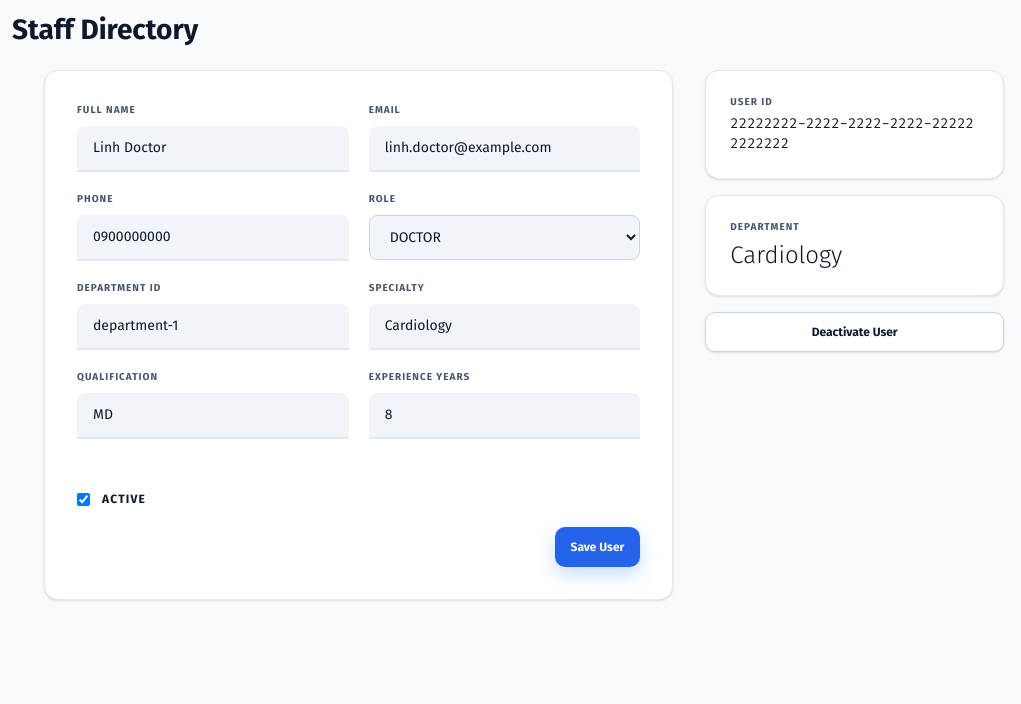
it: AdminUserDetailEditPage › updates the selected user with the backend request shape
Replace the text in the field named "Full Name" with "Updated Doctor" at (213, 149), box [77, 126, 349, 172]
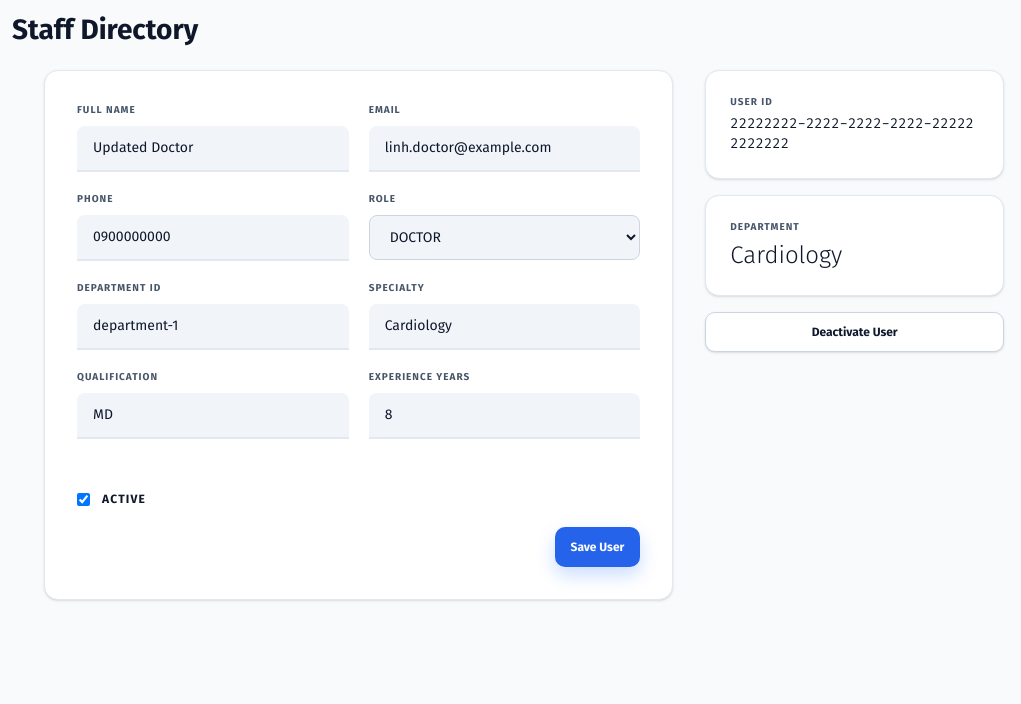
Click the button "Save User" at (597, 547), box [554, 527, 640, 567]
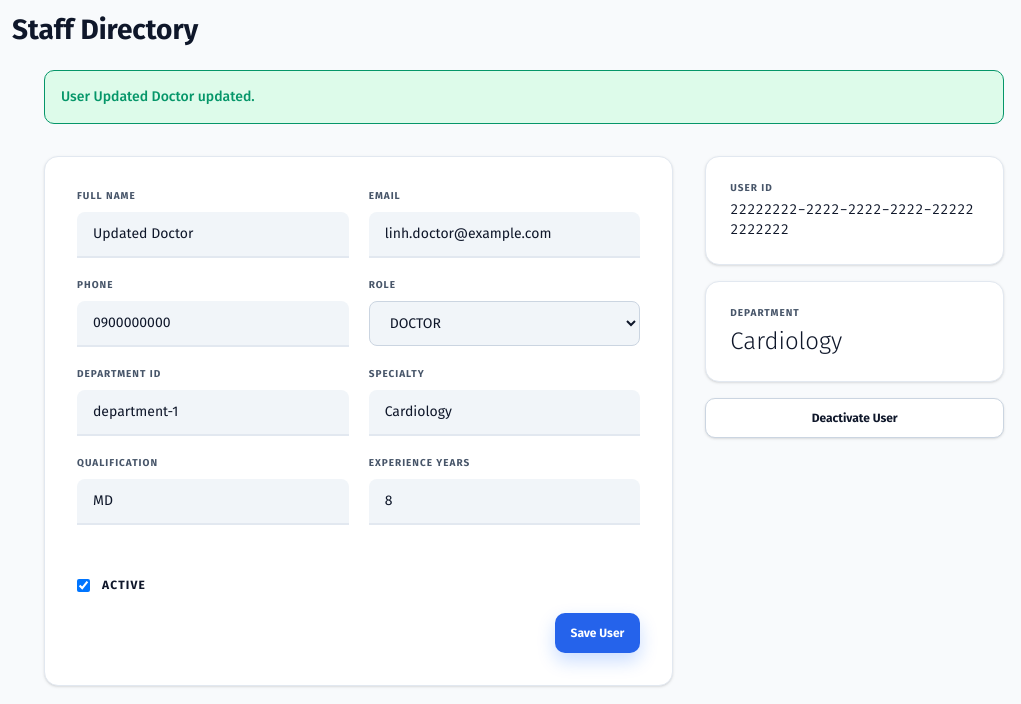
Now the message shows "Updated", box [61, 88, 255, 105]
